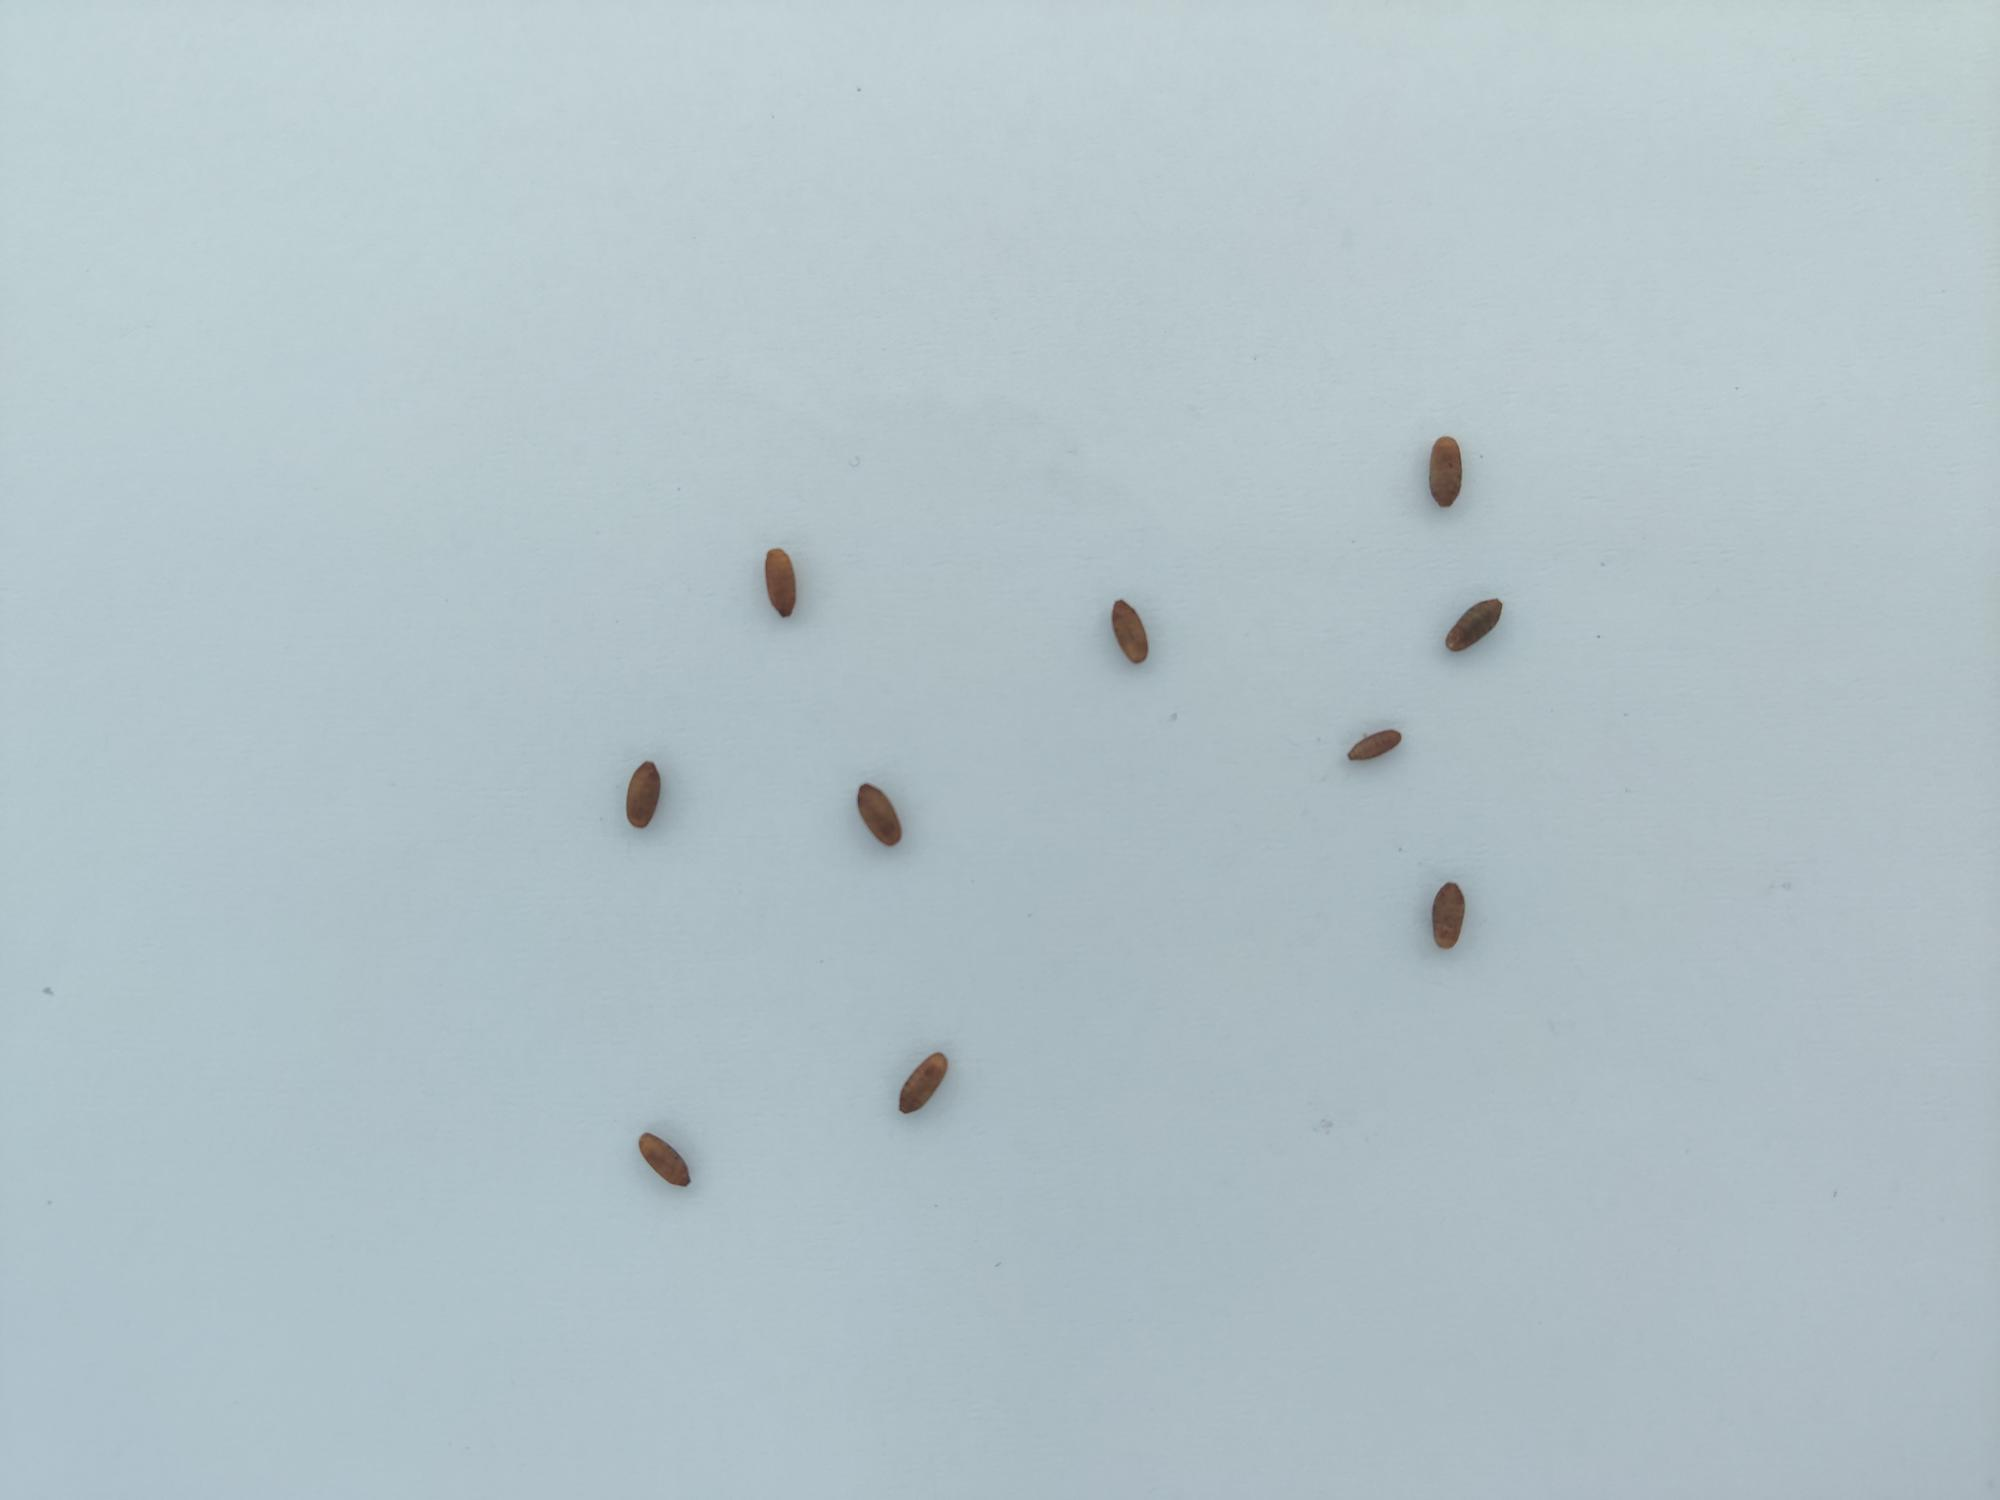pupae: (1416, 425, 1476, 515), (1438, 589, 1512, 662), (890, 1046, 951, 1120), (1422, 871, 1472, 958), (628, 1128, 696, 1190), (1104, 594, 1159, 668), (1337, 714, 1406, 772), (854, 780, 909, 851), (619, 755, 666, 837), (757, 544, 806, 621)
